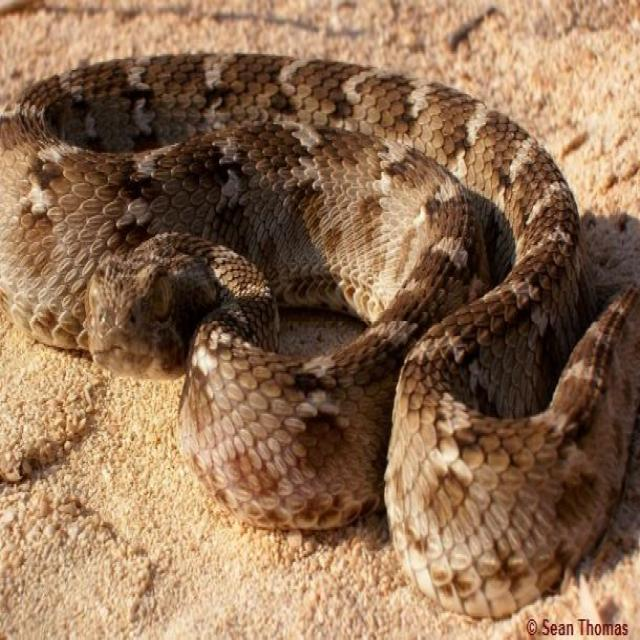Snake: (0, 45, 639, 620)
